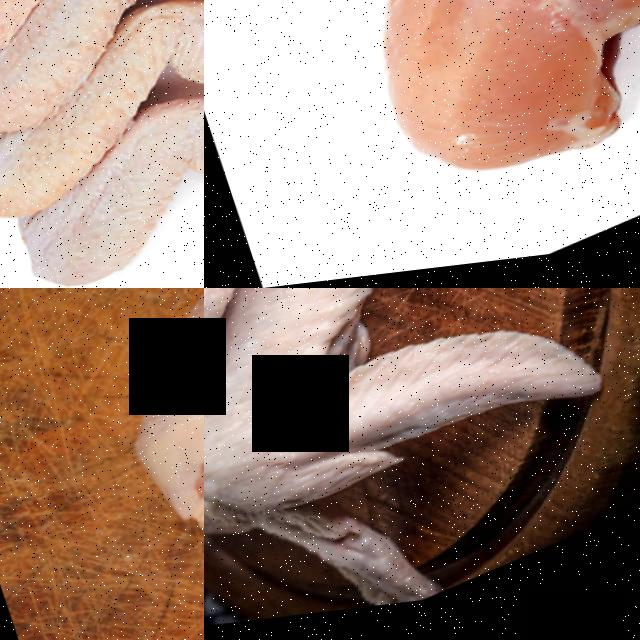chicken breast: (235, 0, 640, 276)
chicken thigh: (39, 288, 204, 597)
chicken wing: (204, 288, 608, 575), (0, 45, 204, 288), (0, 0, 204, 165), (0, 0, 204, 102)
